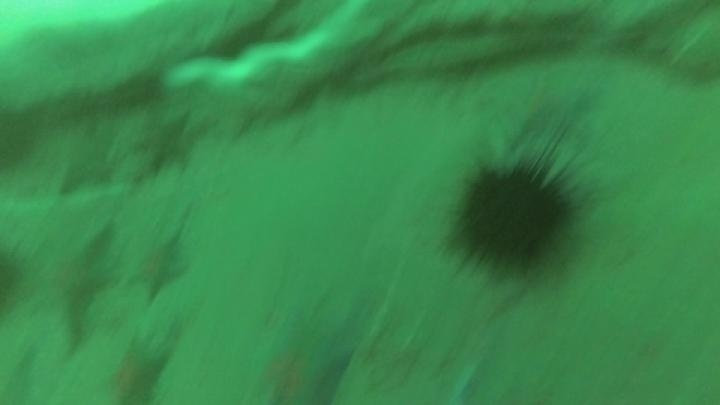echinus: (444, 147, 585, 281), (0, 241, 30, 318)
starfish: (16, 219, 119, 352), (466, 64, 599, 164), (245, 313, 355, 405), (124, 227, 193, 306), (102, 335, 172, 405), (132, 107, 201, 177)
